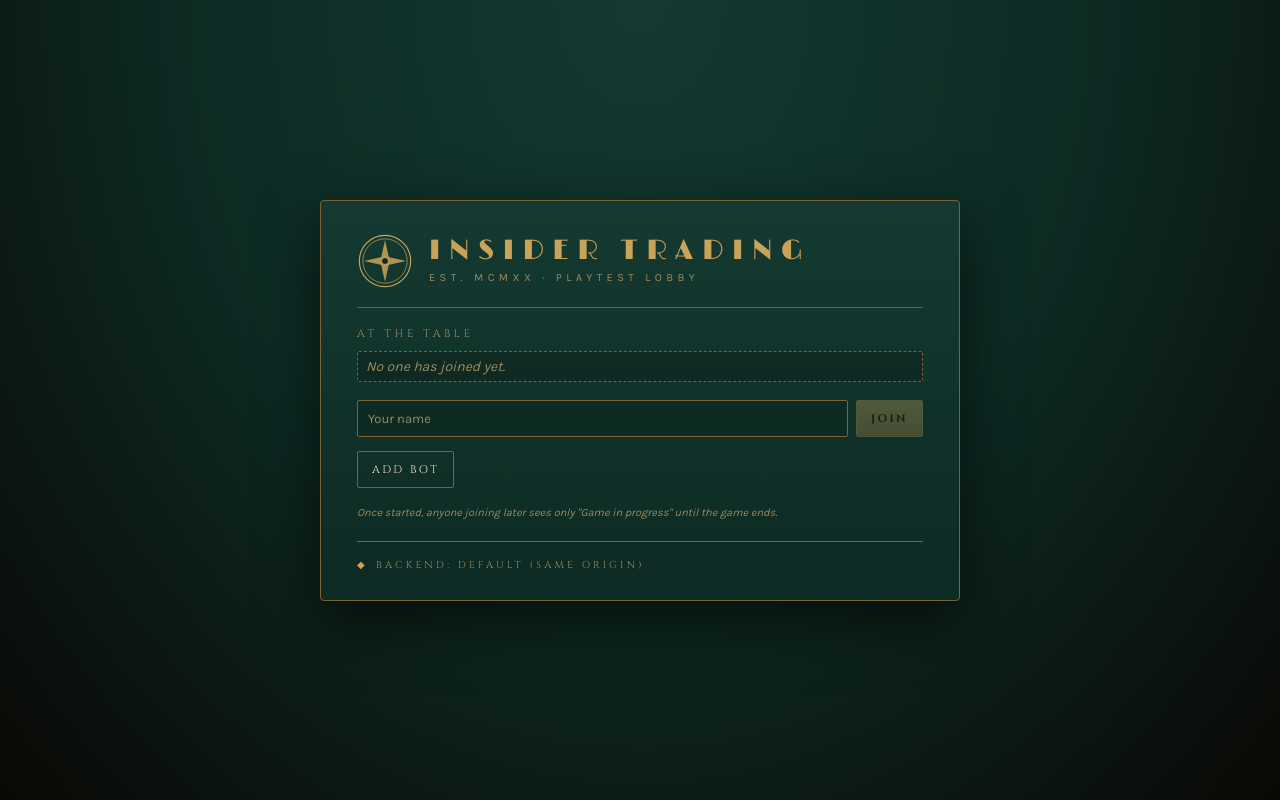
Test: Lobby › surfaces join errors without reconnecting the socket
Type "Alice" into the field with placeholder "Your name".
click(602, 418); type("Alice")  # box [357,400,848,436]
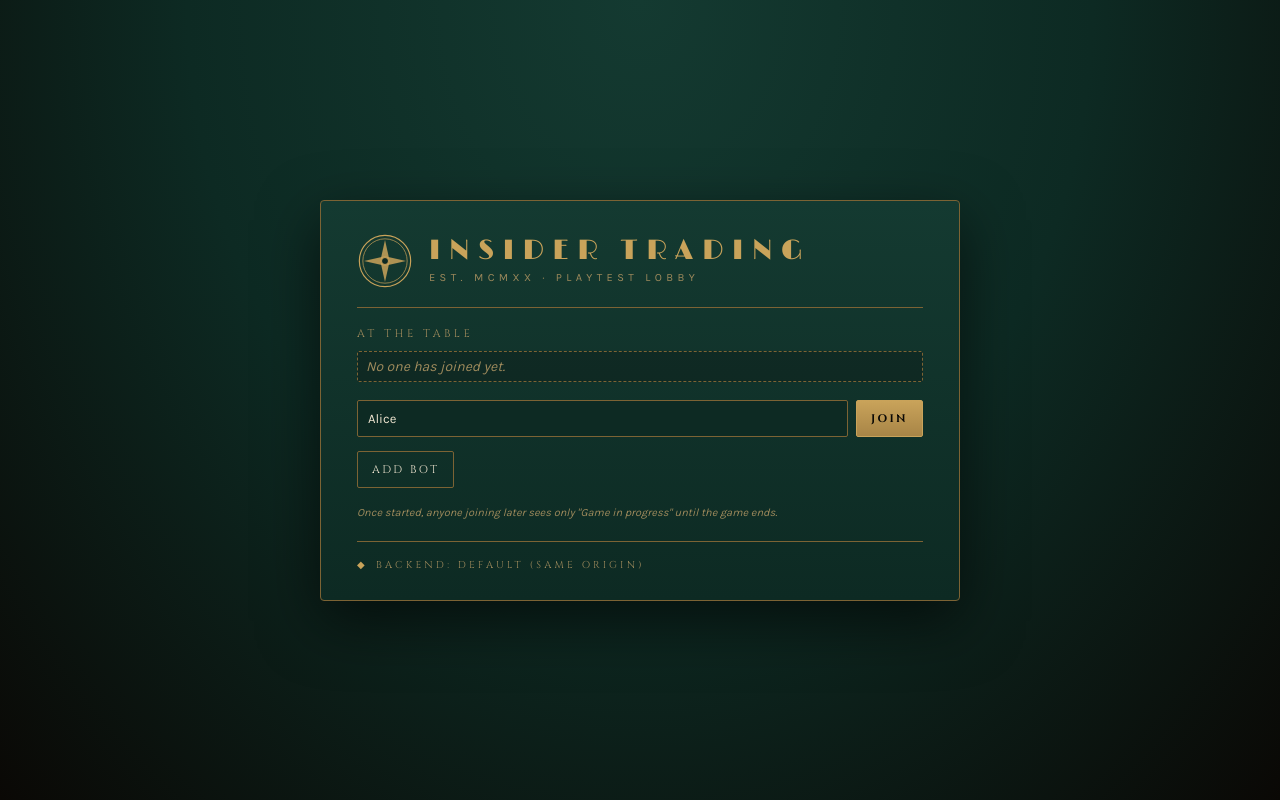
Click the button "Join".
click(890, 418)  # box [856,400,923,436]
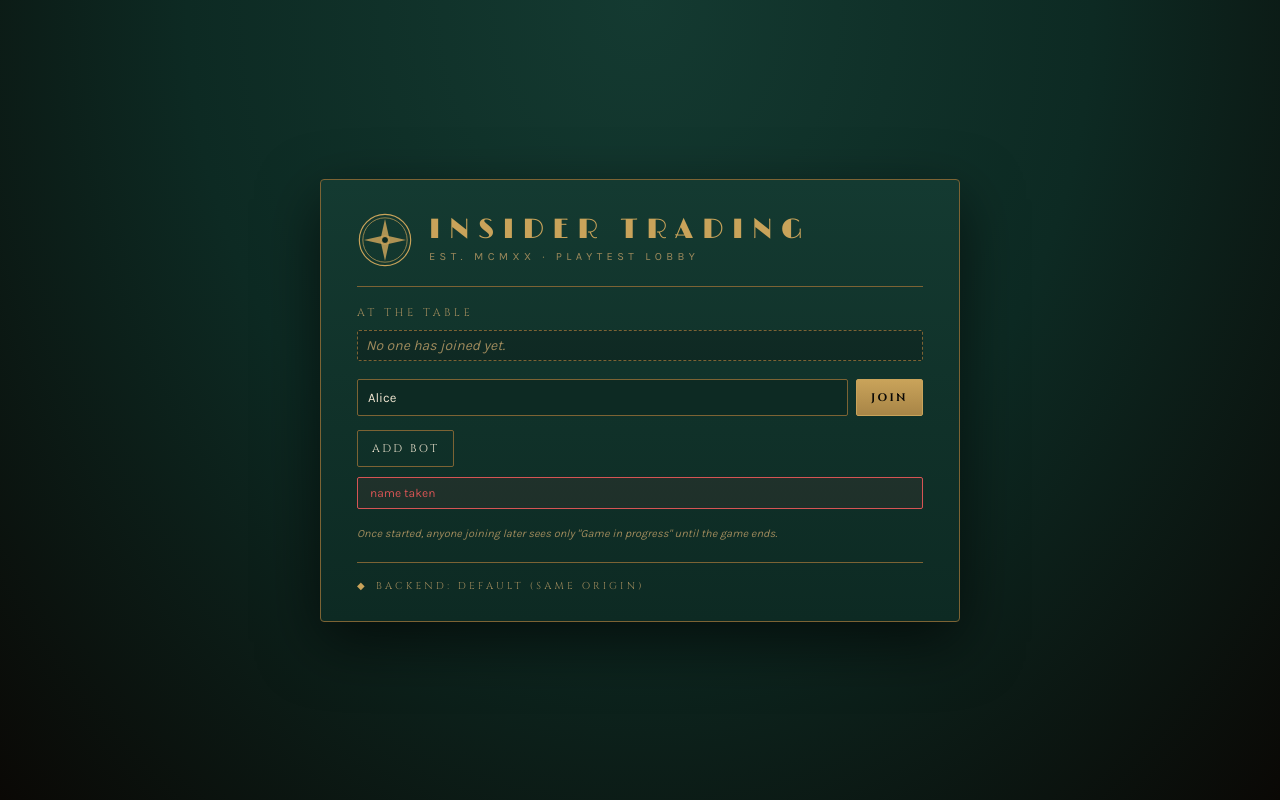
Now the text "name taken" is shown, box [357,476,923,508]
